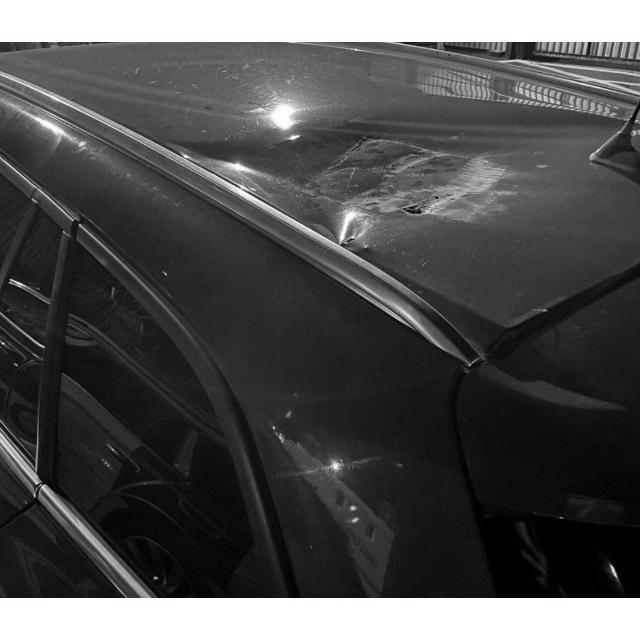roof-dent: (11, 42, 639, 308)
